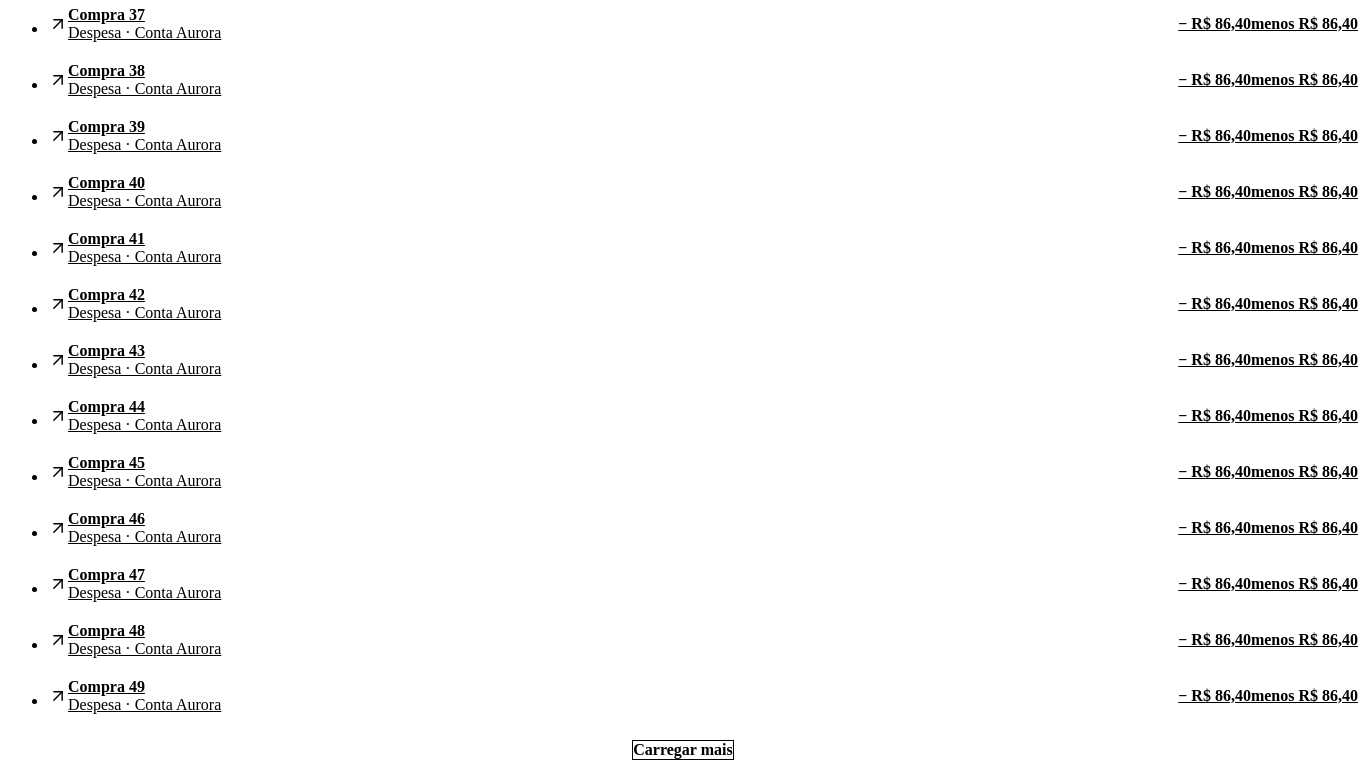
Test: /transactions — lista › carregar mais pede a próxima página e acrescenta sem repetir
(page scrolled)
Click the button "Carregar mais".
click(683, 750)  # box [632,740,734,760]
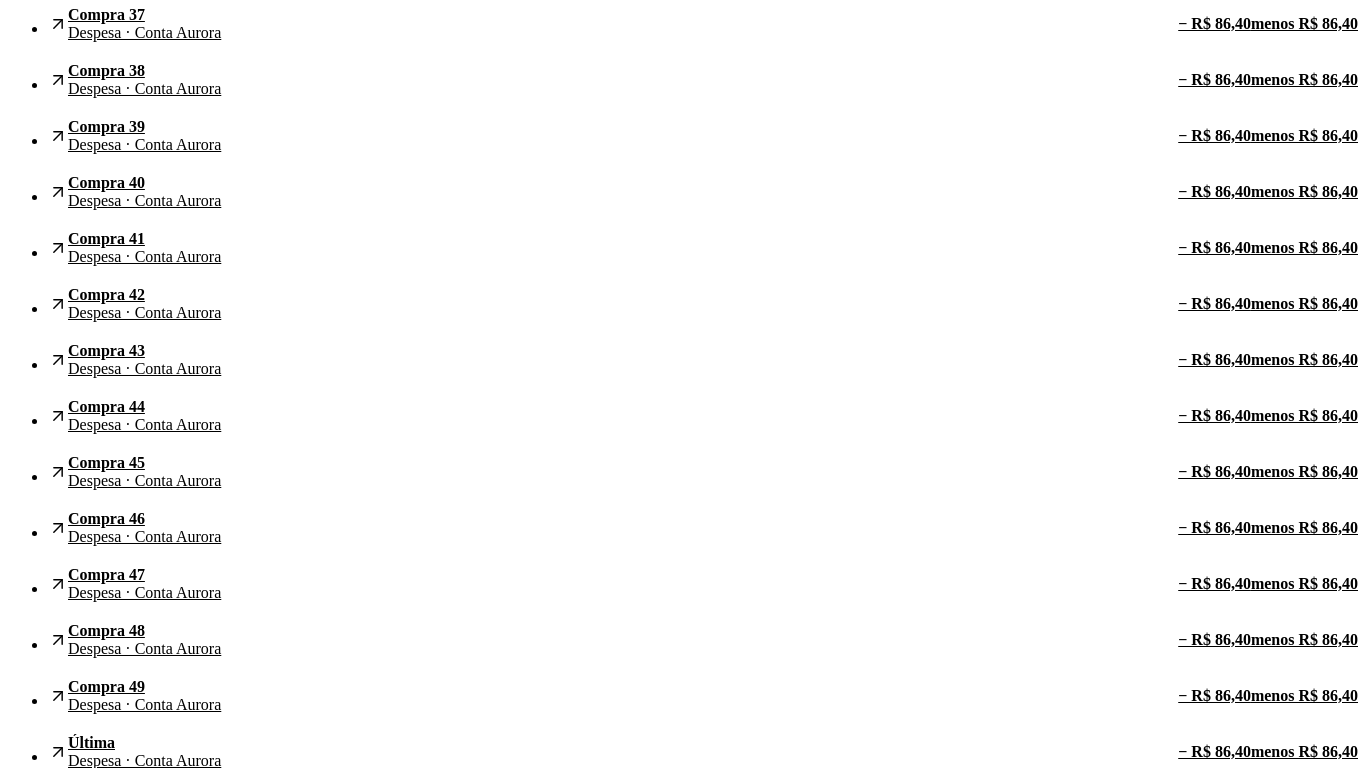
Expected: the text "Última" is shown, [68,734,115,752]
Expected: the text "Compra 49" is shown once, [68,678,145,696]
Expected: the button "Carregar mais" is gone
